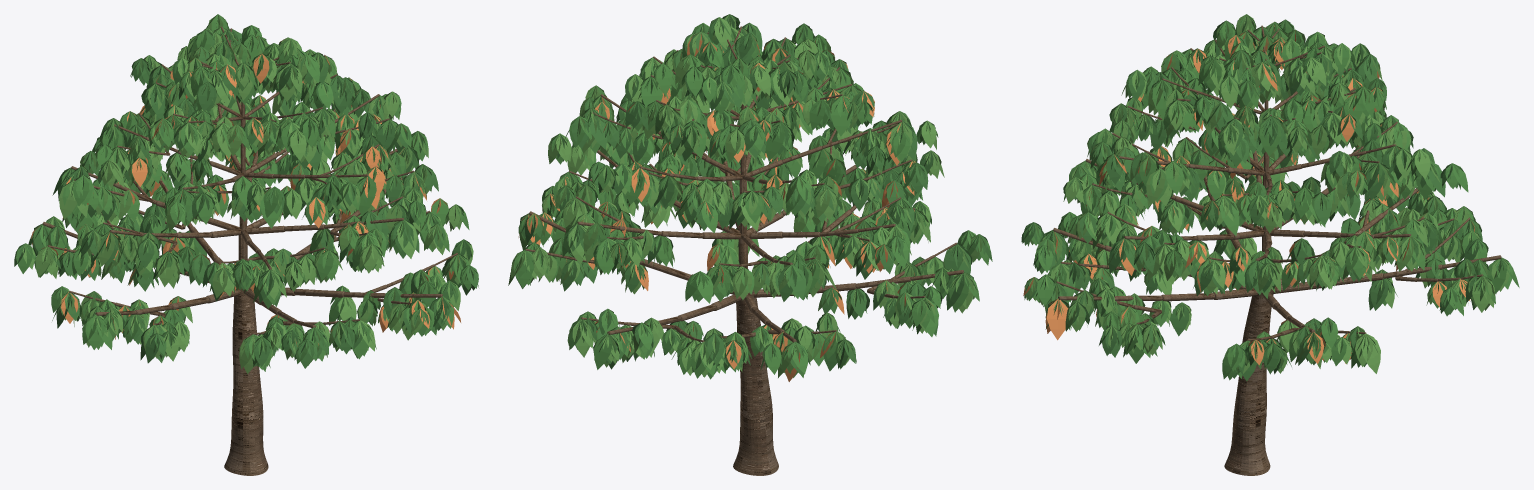
Rendered from tree_amendoeira_3.glb.
The picture shows the model from 3 angles, left to right: view 1: azimuth 30°, elevation 25°; view 2: azimuth 150°, elevation 25°; view 3: azimuth 270°, elevation 25°; orthographic projection. The views are drawn at different scales.
Parts seen in each view (by area): view 1: tree_amendoeira_3; view 2: tree_amendoeira_3; view 3: tree_amendoeira_3.
Part boxes in pixels (left/top/right/bottom): tree_amendoeira_3: left=14, top=14, right=478, bottom=475; tree_amendoeira_3: left=508, top=14, right=992, bottom=475; tree_amendoeira_3: left=1021, top=14, right=1519, bottom=475.
Bounding box in the file's own units: 6.24 × 6.22 × 6.43.
Materials: 5 (1 with a texture image).
